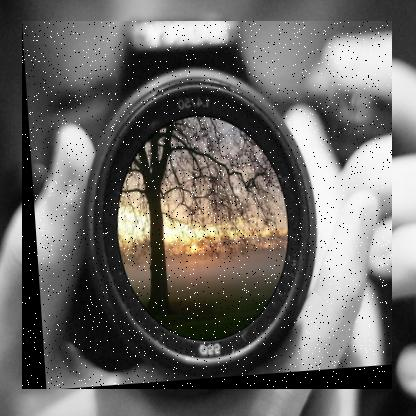Camera: (23, 22, 394, 391)
